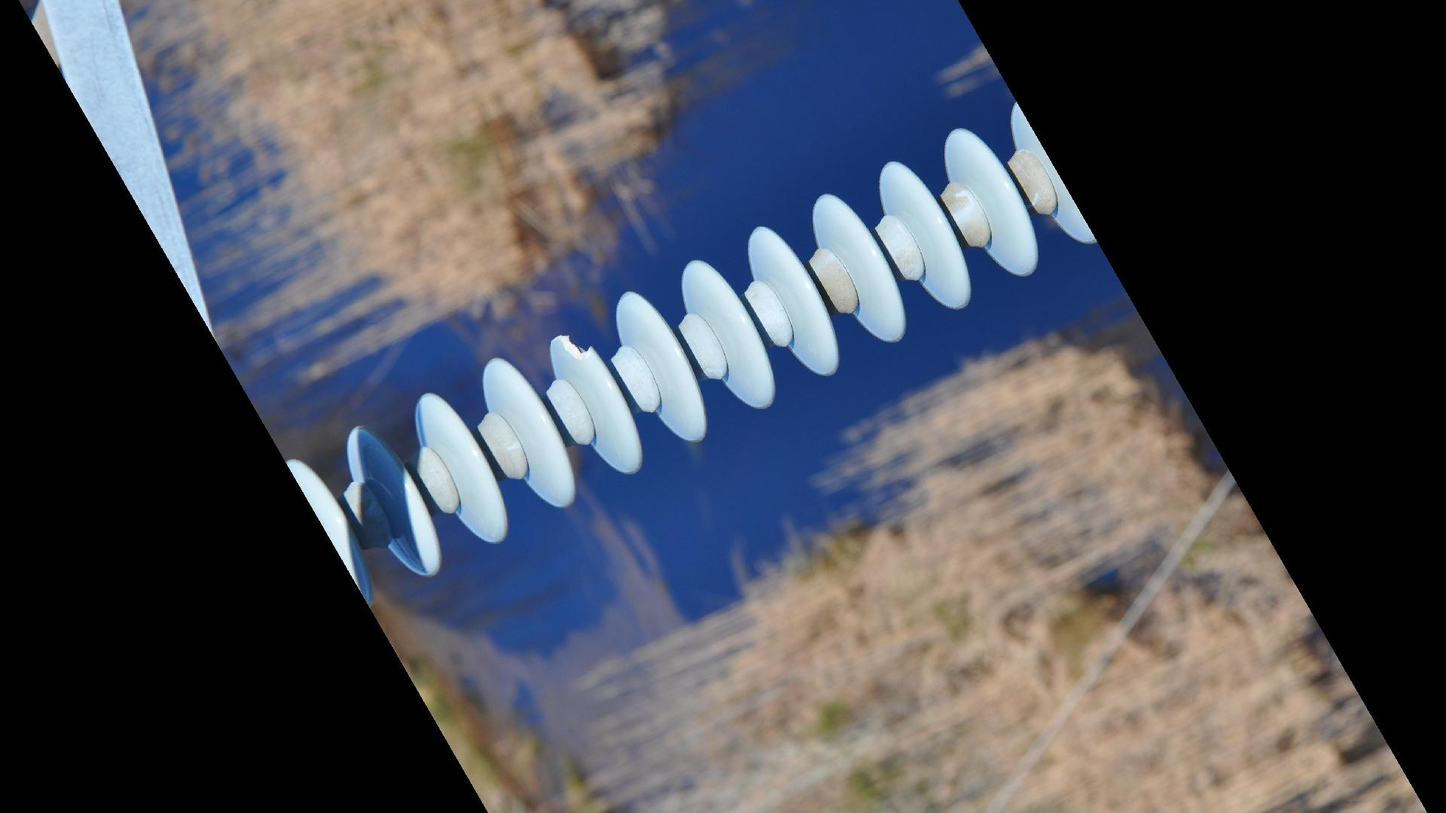insulator: (275, 94, 1107, 609)
insulator_breakage: (541, 326, 604, 370)
